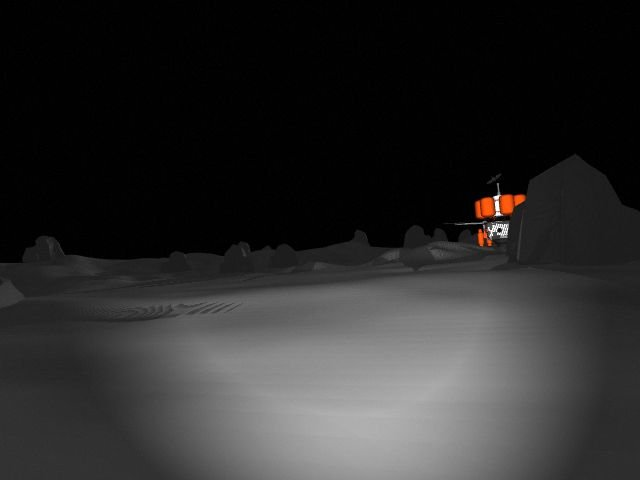homebase: (433, 172, 566, 252)
